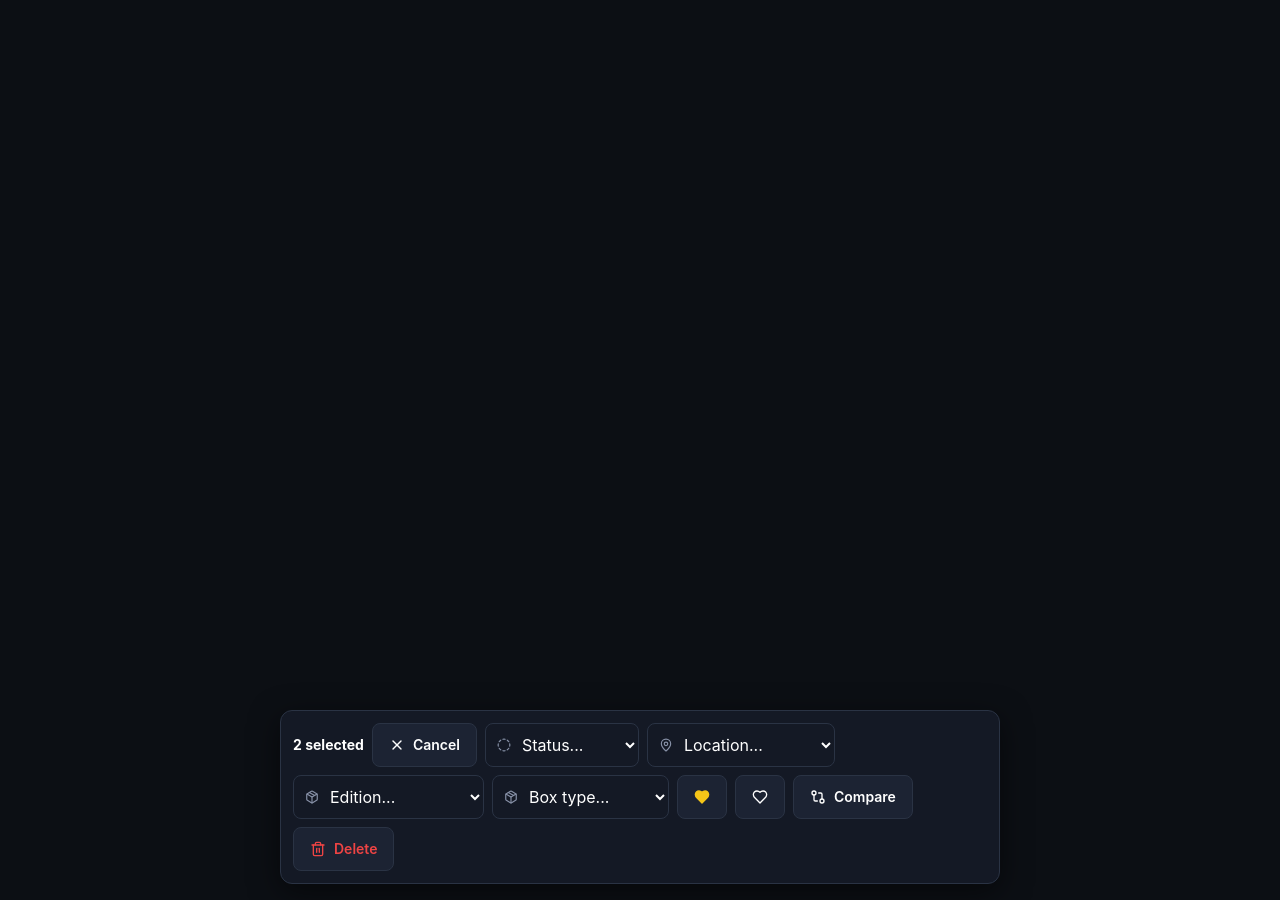
Scenario: BulkActionBar › deletes every selected id after the confirm dialog is accepted
The image size is (1280, 900).
Click the button "Delete" at (344, 849), box [293,827,394,871]
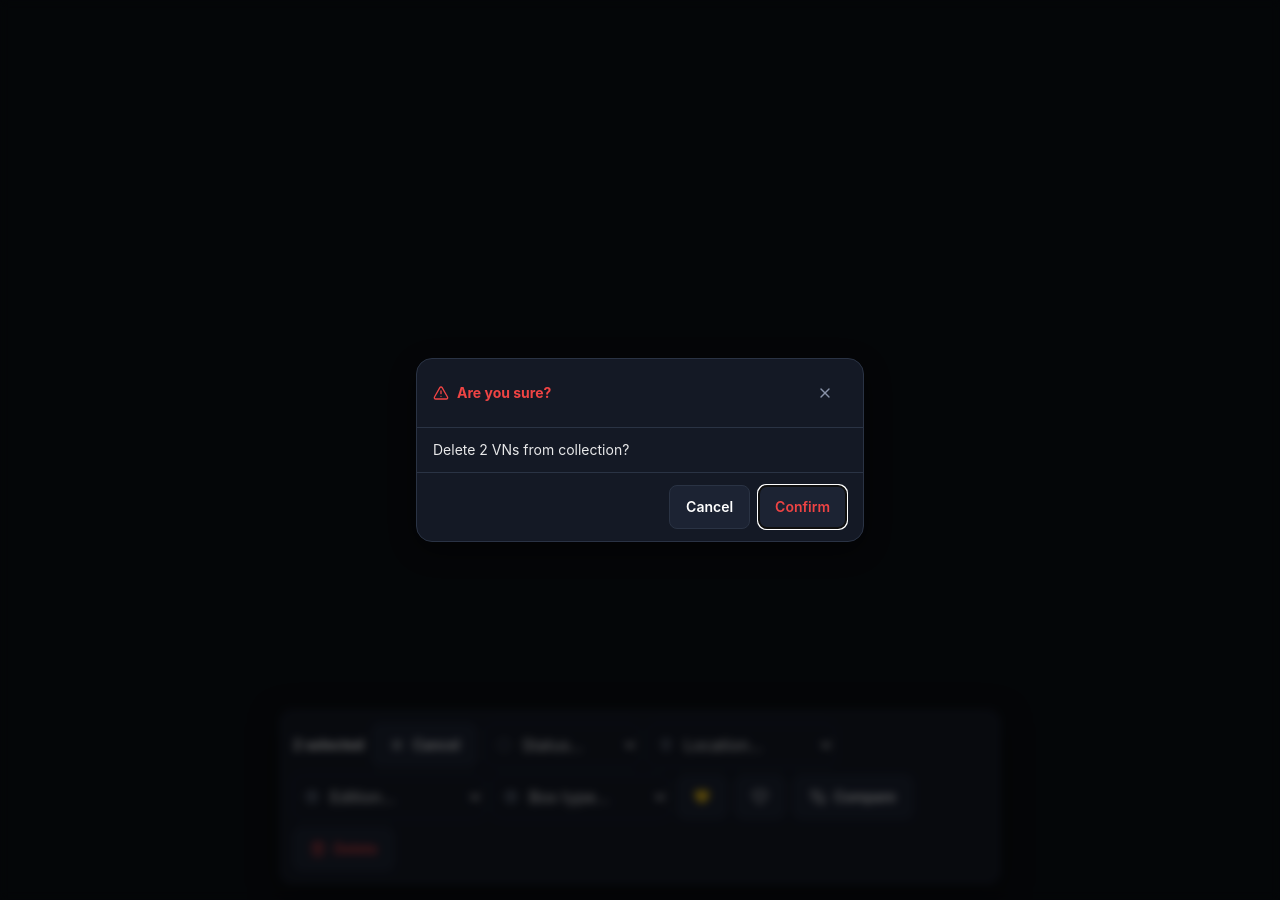
Click the button "Confirm" at (803, 507), box [758,485,847,529]
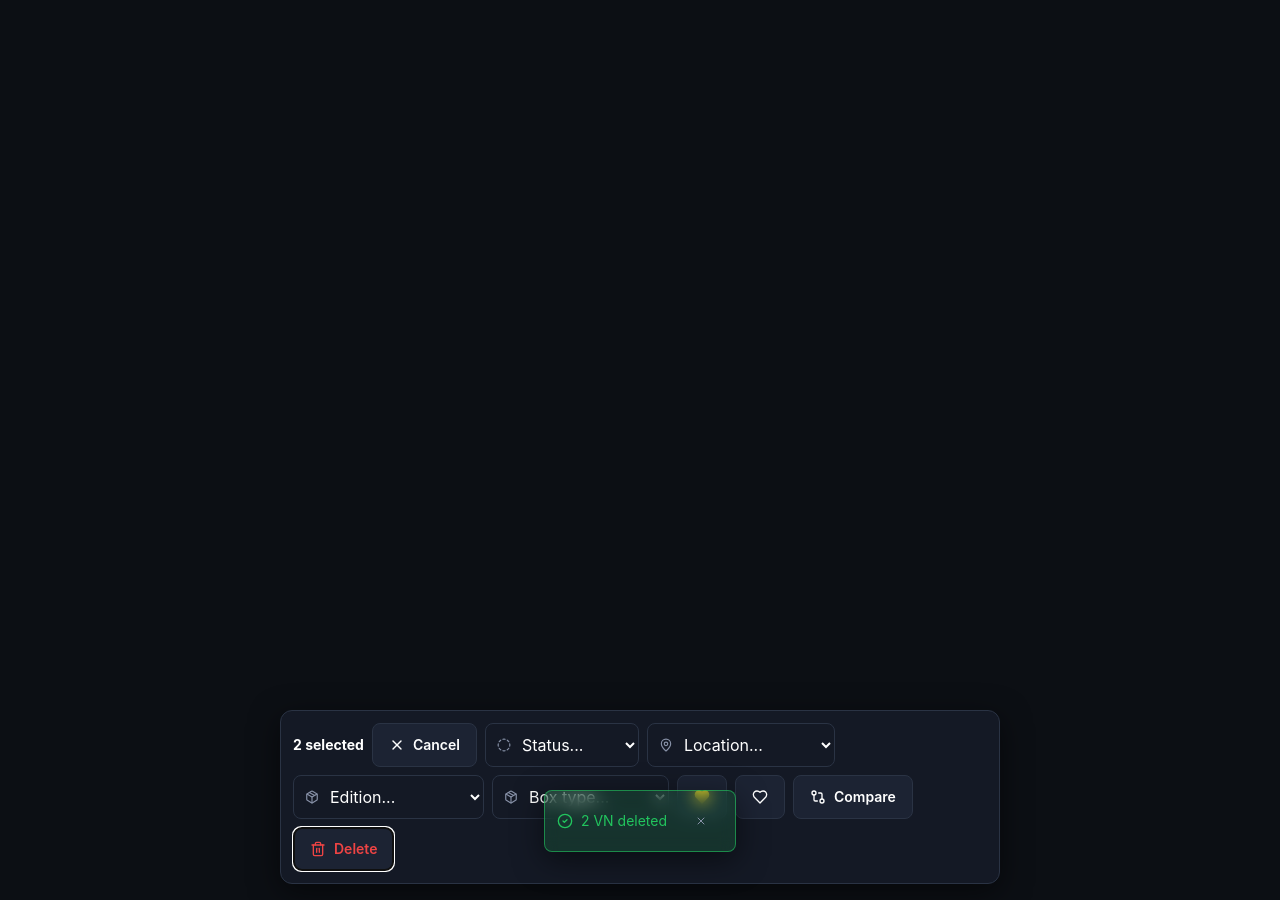
Result: the text "2 VN deleted" is shown at [581,811,667,831]
